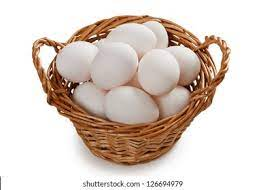eggs: (66, 25, 191, 143)
